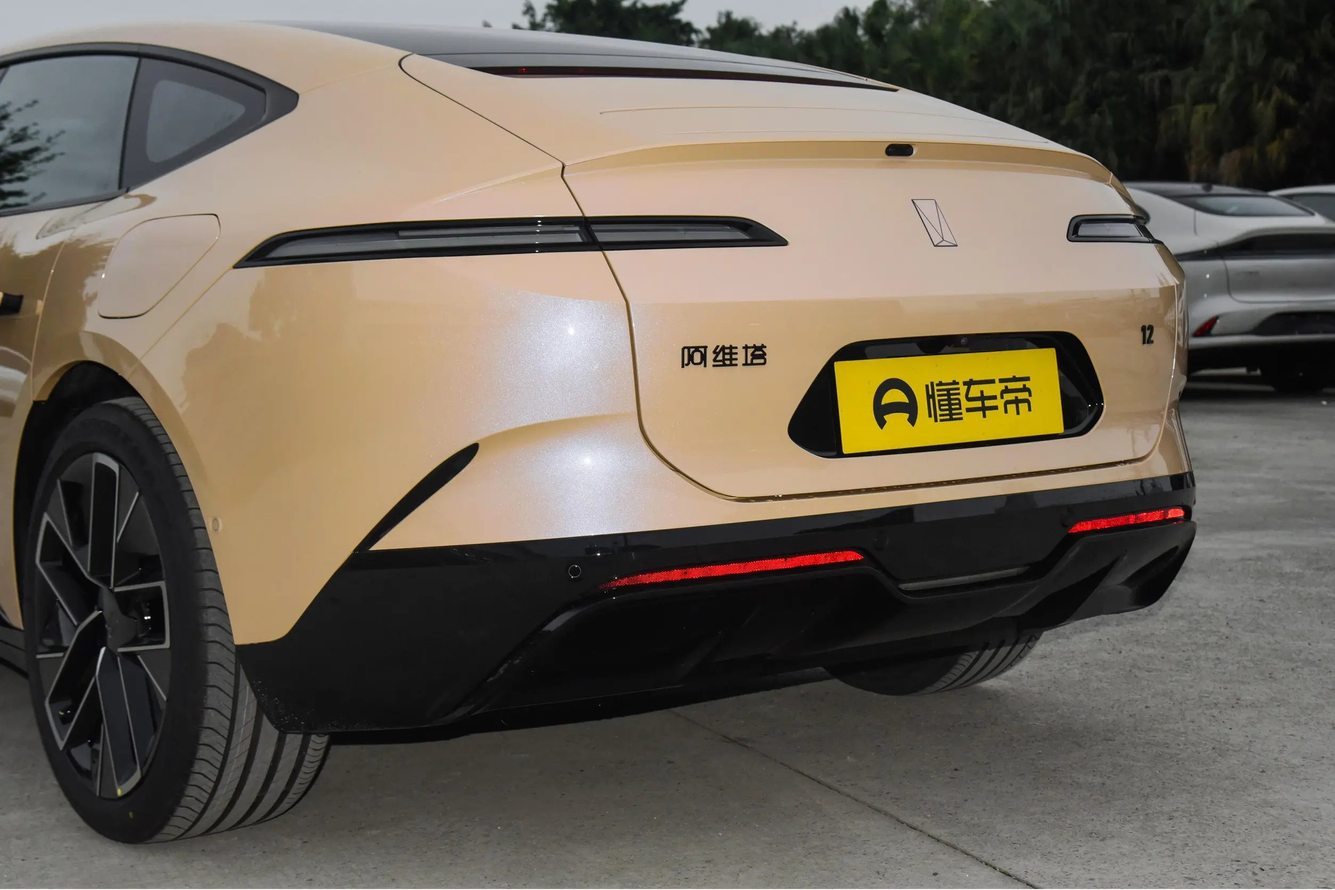AVATR: (911, 199, 958, 247)
